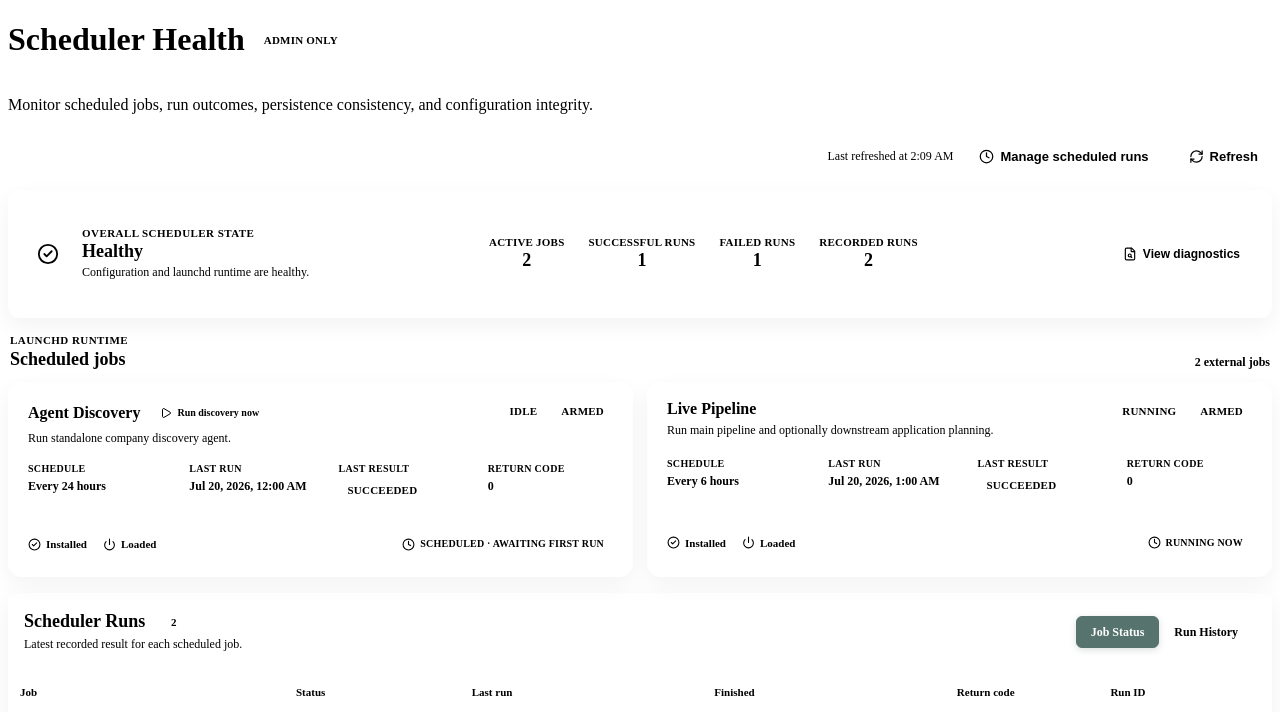
Test: SchedulerHealthDashboard › uses the second discovery row's exact run id without substituting the latest
expect the heading "Healthy" is shown: met, box [82, 241, 143, 261]
Step 1. Click the tab "Run History" → click(1206, 632), box [1159, 616, 1253, 648]
(page scrolled)
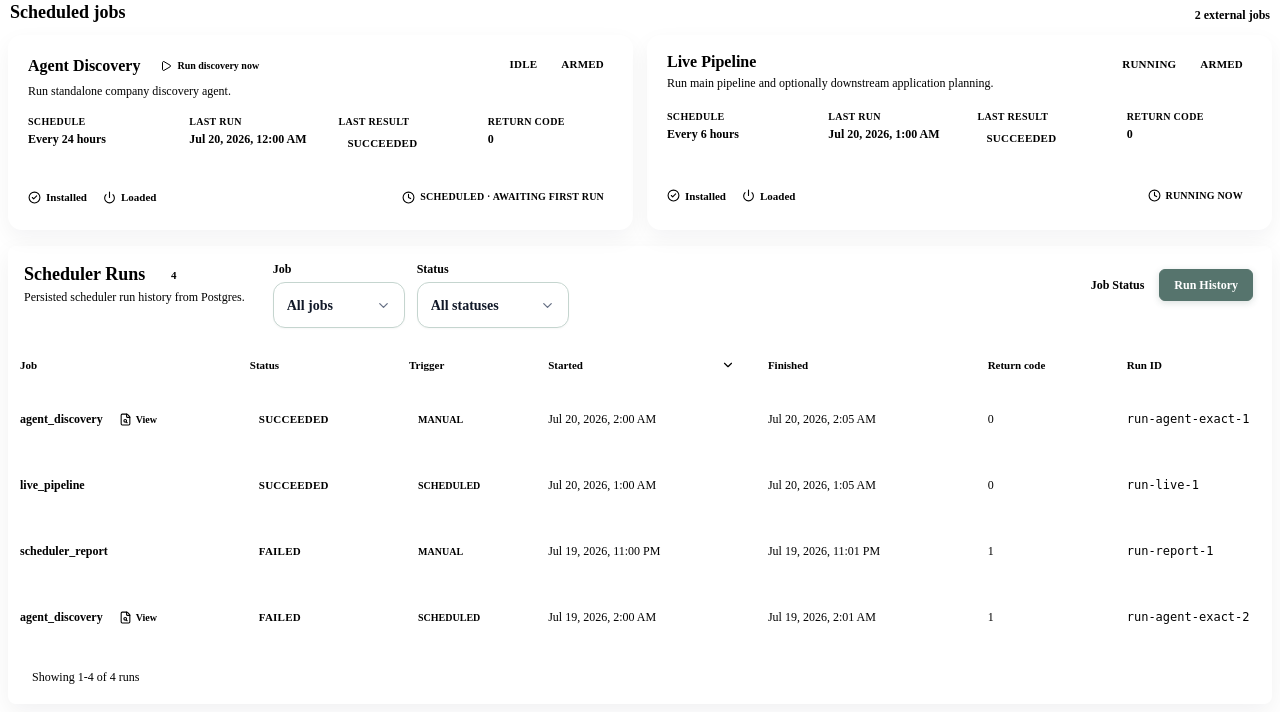
Step 2. Click the button with aria-label "View discovery summary for run-agent-exact-2" → click(138, 617), box [111, 605, 165, 629]
(page scrolled)
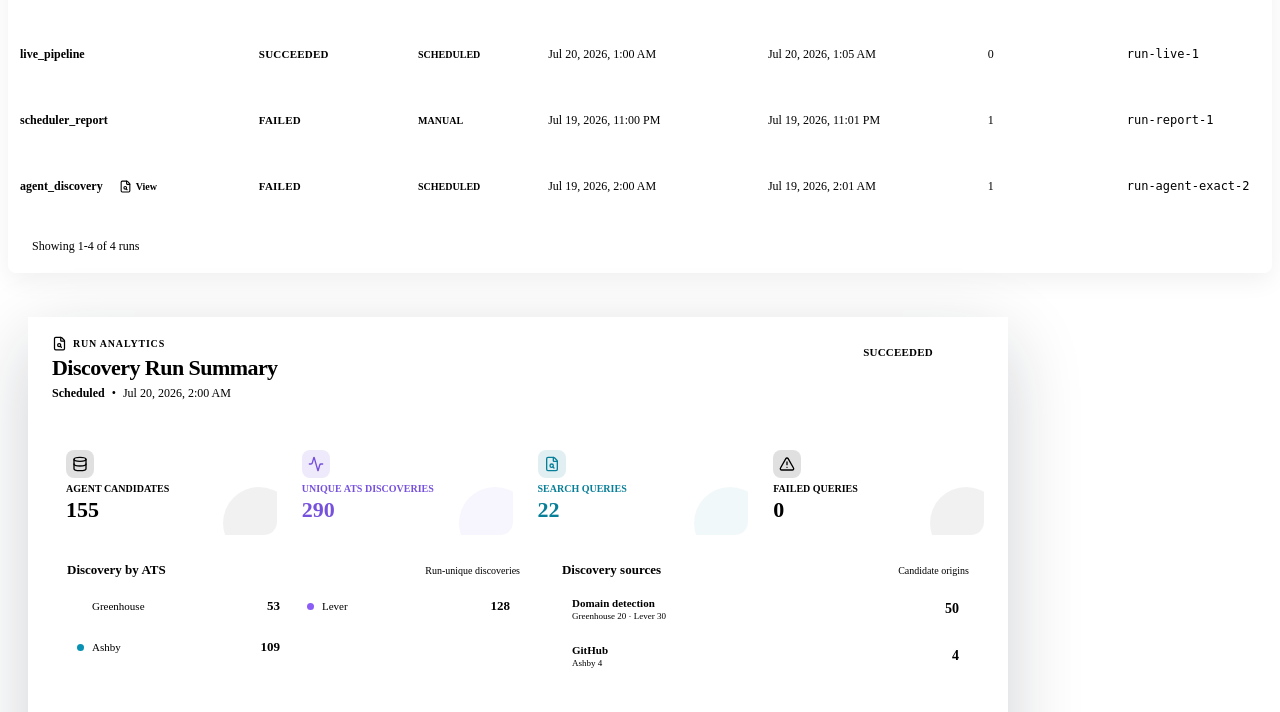
expect the text "Scheduled" below "Discovery Run Summary" is shown: met, box [52, 386, 105, 400]
